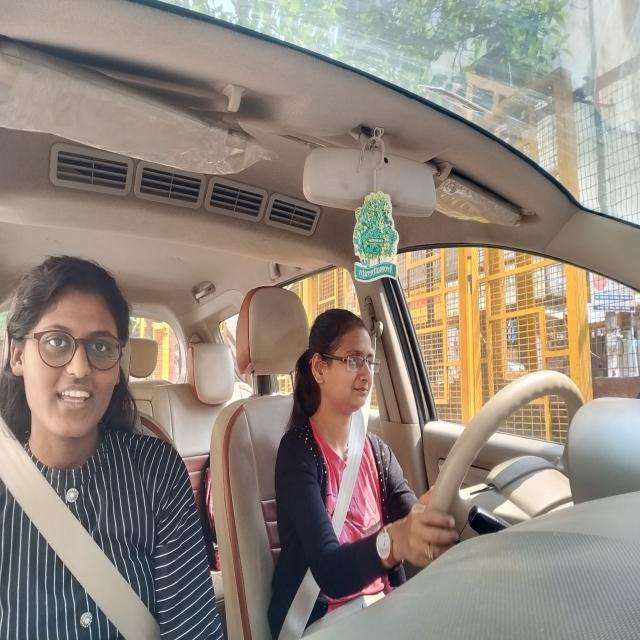person: (7, 247, 134, 445), (302, 310, 383, 422)
